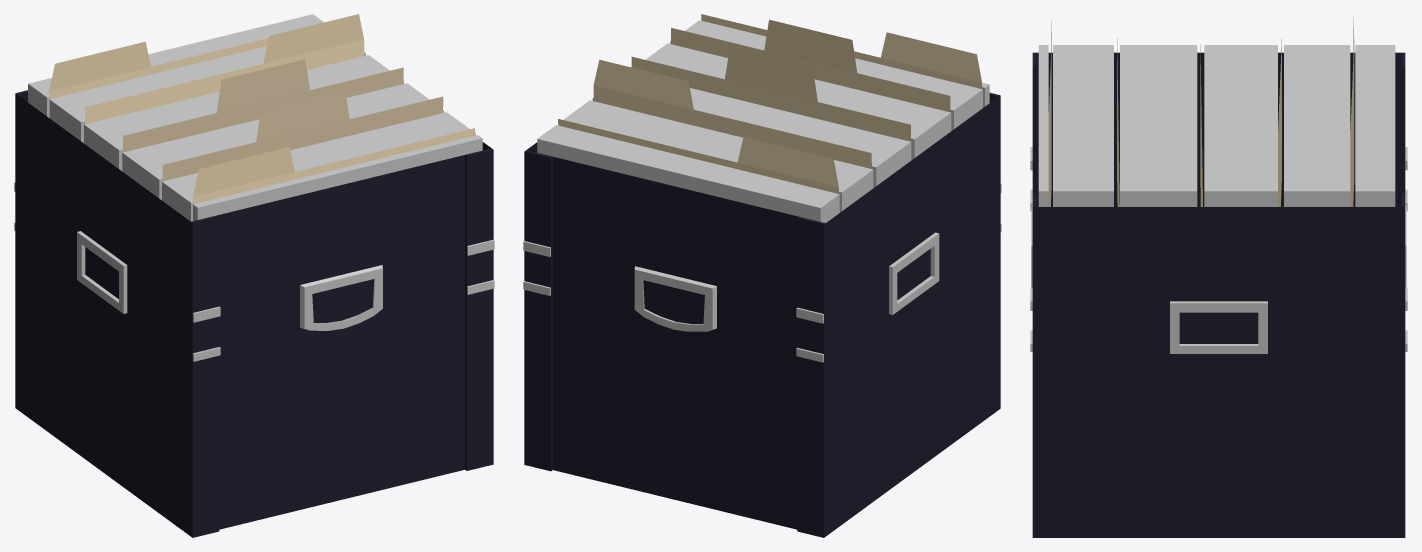
The model's file is FileBox3.fbx.
3 renders of one model, left to right at view 1: azimuth 30°, elevation 25°; view 2: azimuth 150°, elevation 25°; view 3: azimuth 270°, elevation 25°, orthographic. The views are drawn at different scales.
Parts seen in each view (by area): view 1: FileBox3; view 2: FileBox3; view 3: FileBox3.
Boxes of the visible parts, box(x1,y1,x2,y2) form: FileBox3: box(14, 14, 494, 537); FileBox3: box(523, 14, 1001, 537); FileBox3: box(1030, 17, 1407, 537).
Size of the model in its own units: 205 by 237 by 207.
